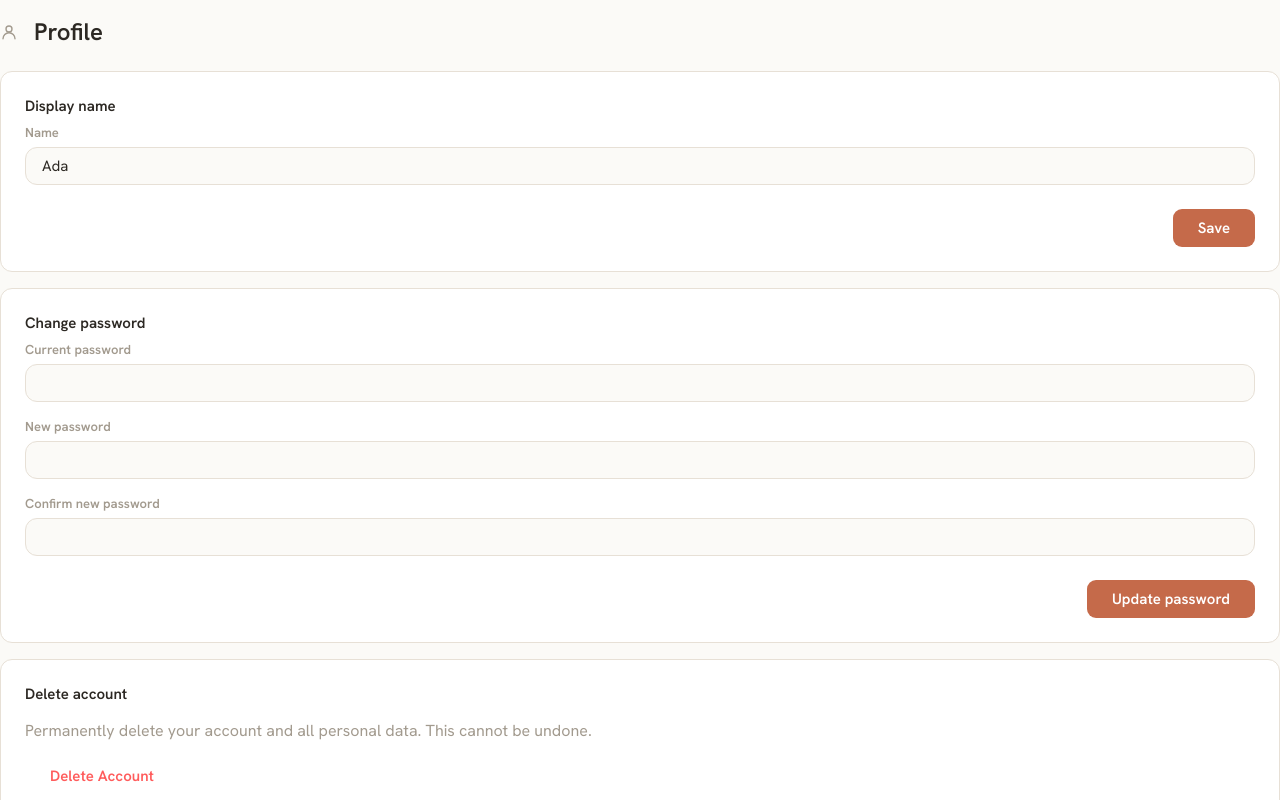
Test case: ProfilePage › opens the delete account modal
This screenshot has width=1280, height=800.
Click the button "Delete Account": [102, 776] box [25,757,179,795]
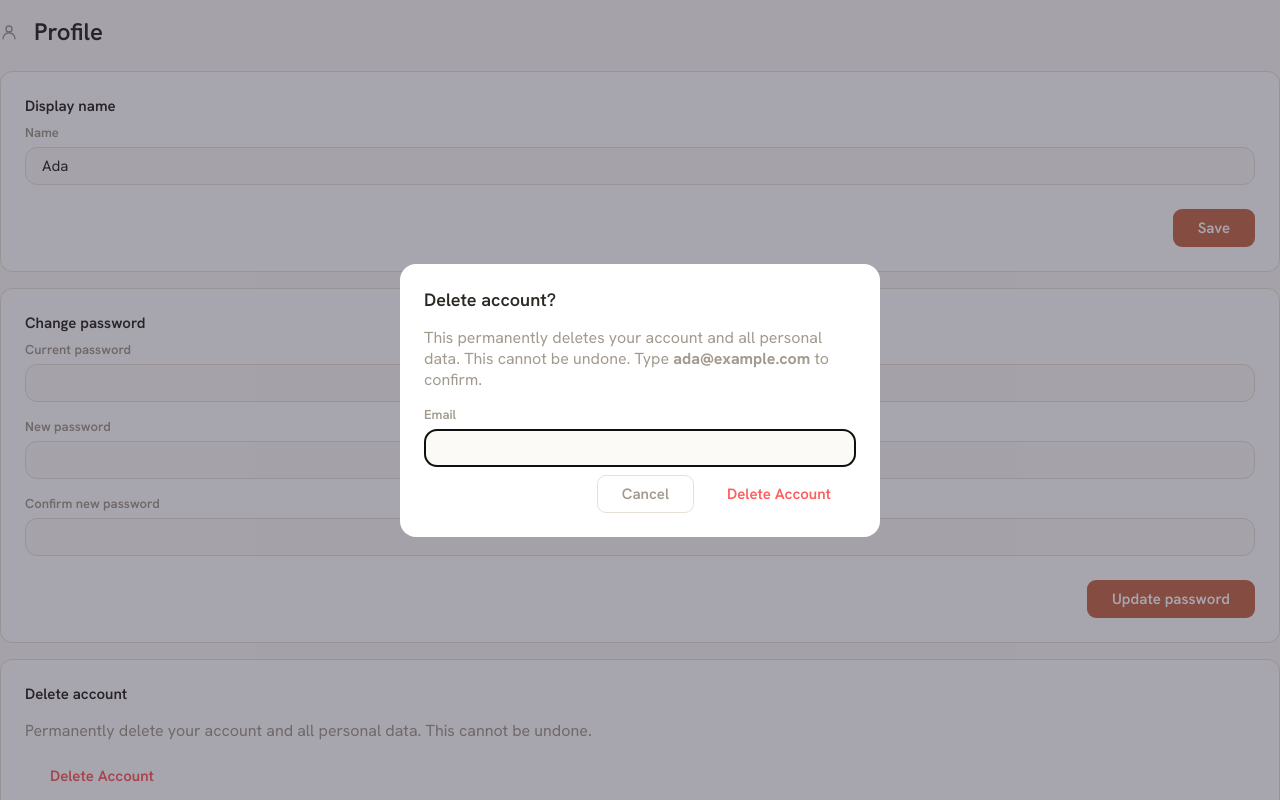
Expected: the heading "Delete account?" is shown, [424,288,556,310]
